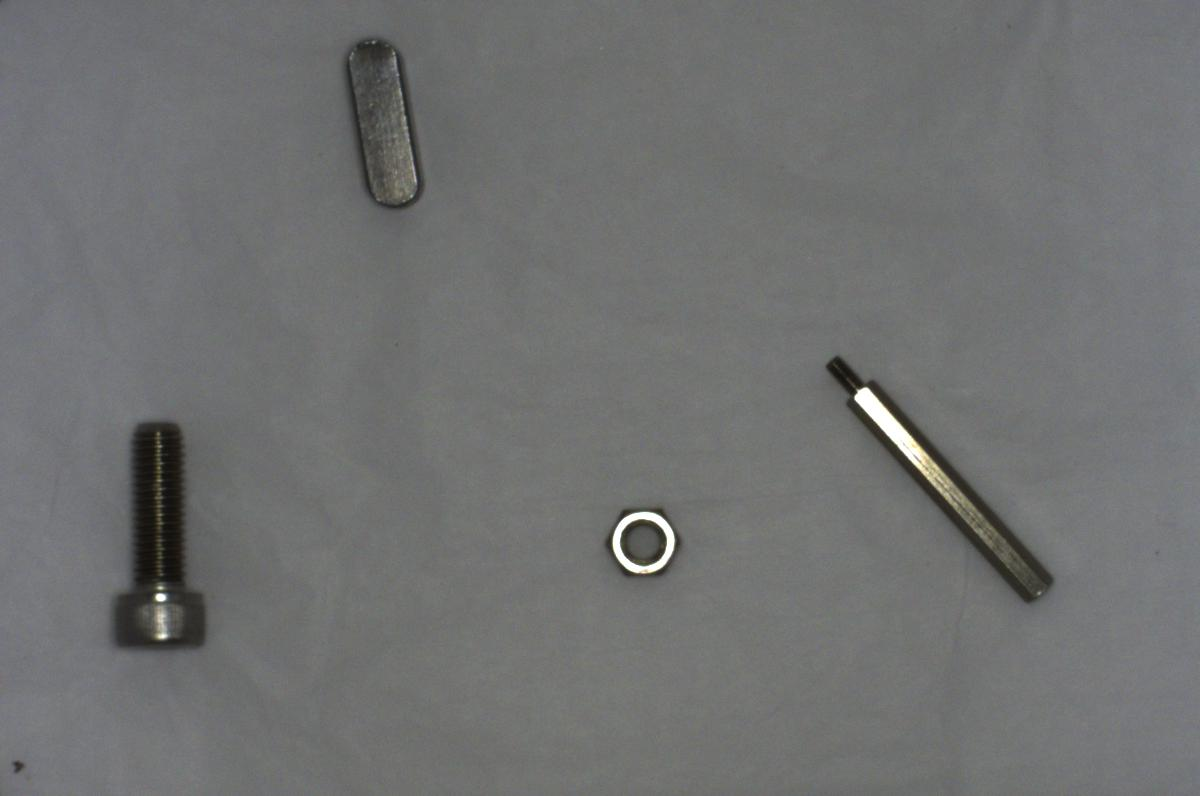Hexagon nut: (599, 505, 687, 580)
Hexagon screw: (107, 412, 212, 653)
Hexagonal steel column: (815, 350, 1061, 608)
Keybar: (338, 23, 431, 220)
